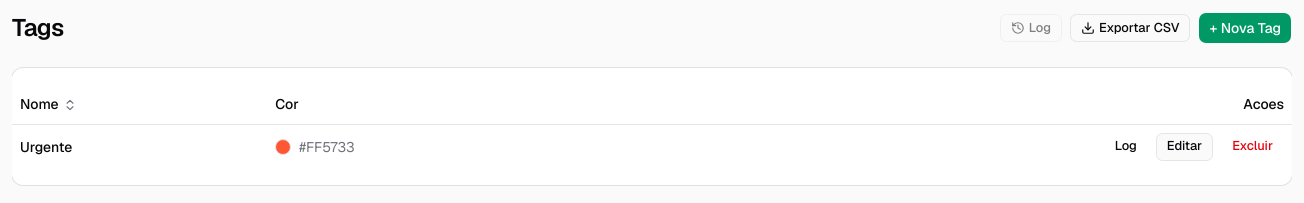
Test: TagsPage › exibe confirmacao ao clicar Excluir
Expected: the text "Urgente" is shown, [12, 124, 267, 168]
Step 1. Click the button "Excluir" → coordinates (1253, 146), box [1221, 132, 1284, 160]
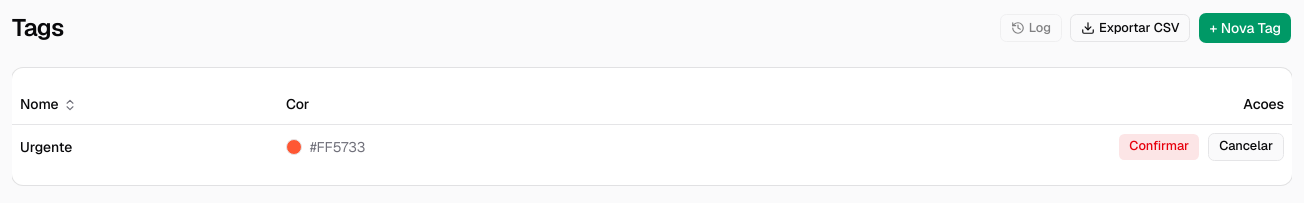
Result: the button "Confirmar" is shown at [1118, 132, 1200, 160]
Result: the button "Cancelar" is shown at [1208, 132, 1284, 160]
